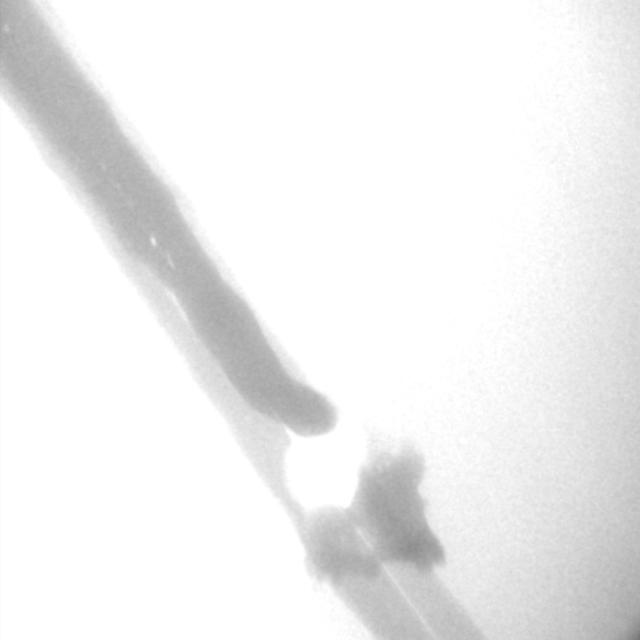air hole: (150, 236, 158, 247), (2, 24, 11, 33)
broken arc: (160, 283, 437, 637)
